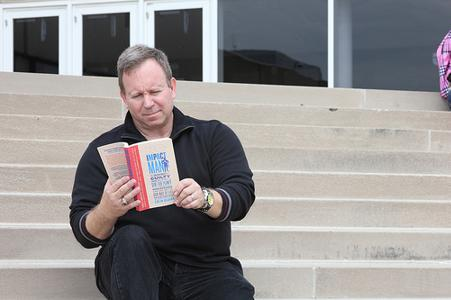person: (68, 47, 260, 300)
